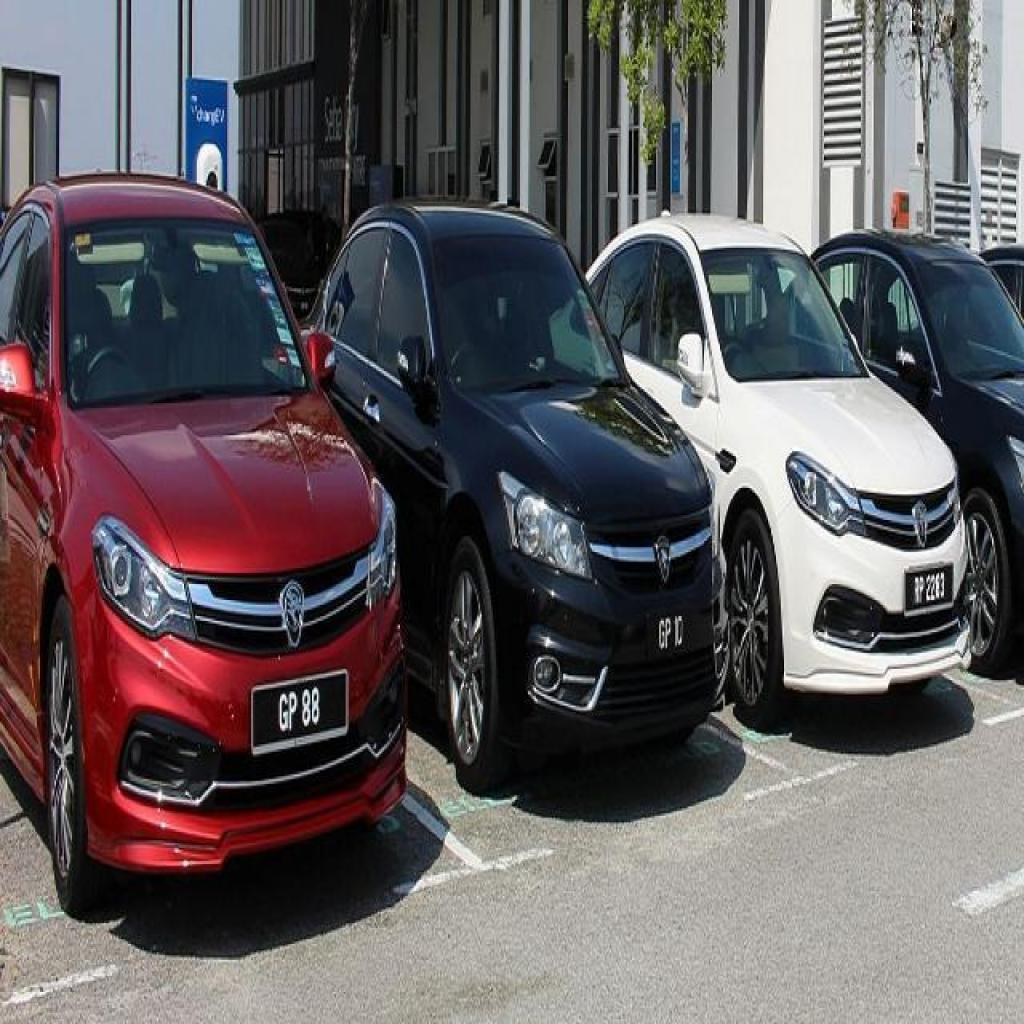car: (0, 178, 403, 909)
car plate: (250, 672, 346, 752)
